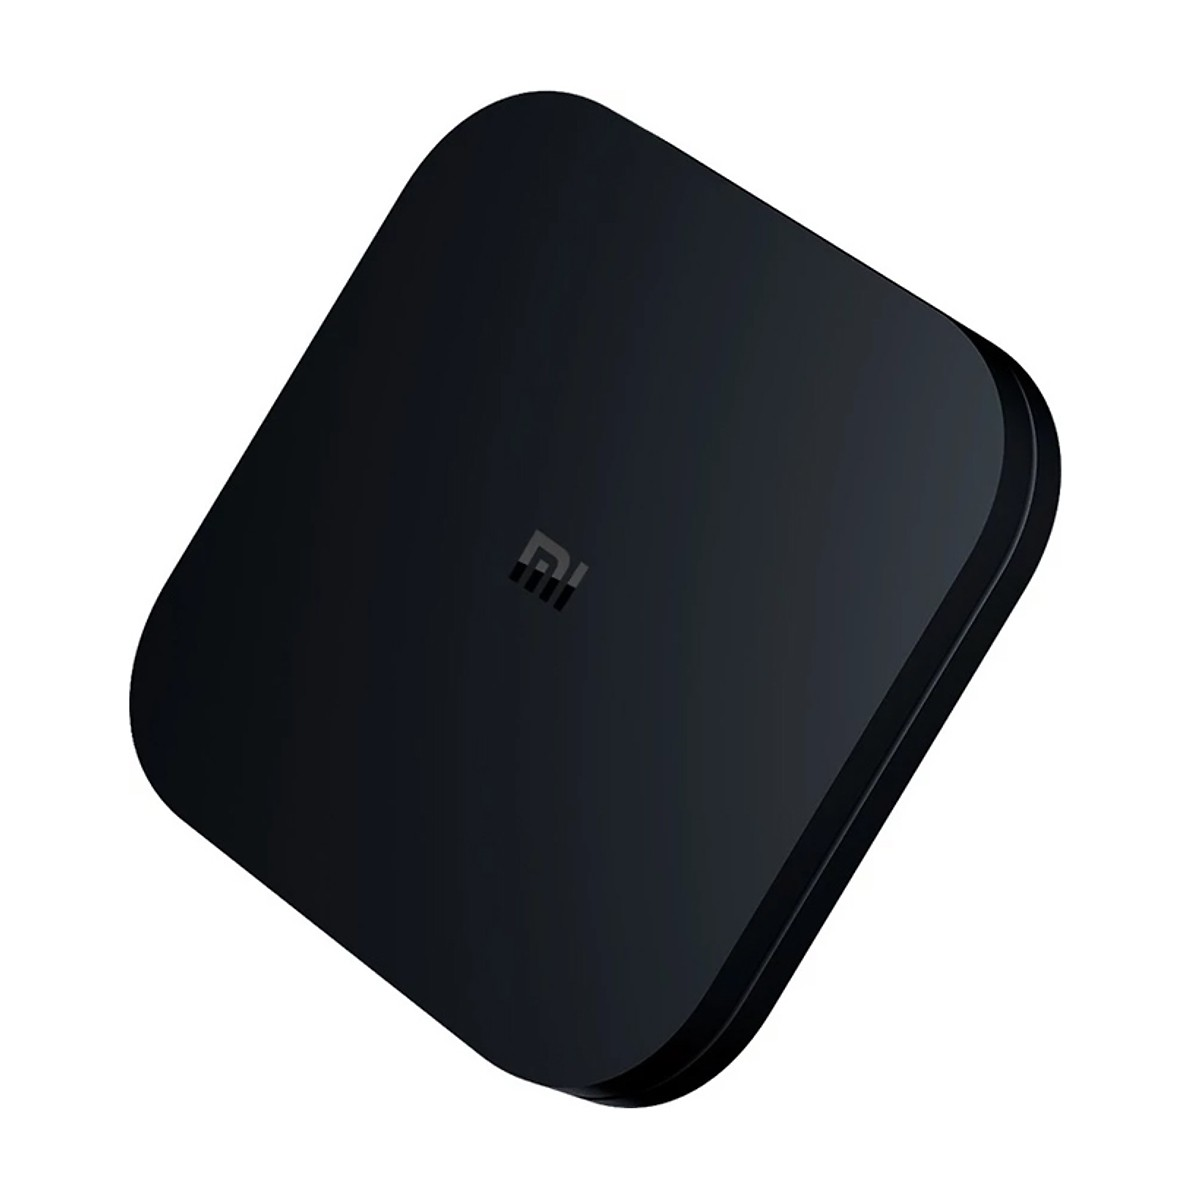Xiaomi: (432, 500, 641, 702)
